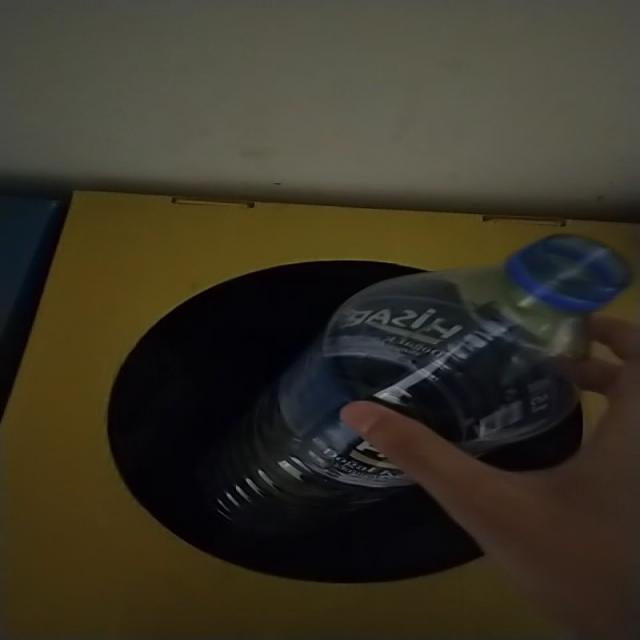plastic: (200, 236, 632, 555)
